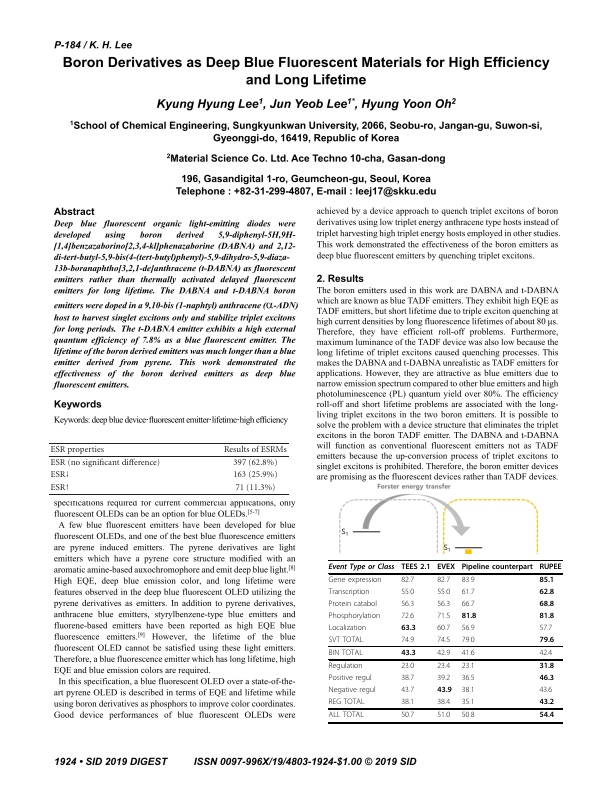borderless: (327, 559, 562, 722), (47, 441, 289, 494)
cell: (49, 458, 161, 468), (461, 563, 534, 572), (223, 445, 288, 455), (328, 563, 395, 572), (49, 445, 105, 455), (328, 576, 382, 586), (328, 612, 381, 622), (328, 600, 378, 610), (328, 686, 377, 696), (234, 482, 276, 493), (232, 458, 278, 468), (232, 470, 278, 480), (328, 674, 373, 684), (328, 588, 370, 598), (328, 624, 367, 634), (328, 698, 365, 708), (328, 649, 364, 659), (328, 662, 364, 672), (328, 712, 365, 721), (328, 636, 364, 645), (400, 563, 431, 572), (49, 482, 71, 493), (538, 563, 563, 572), (49, 470, 71, 480), (436, 563, 456, 572), (538, 662, 555, 672), (538, 674, 555, 684), (436, 686, 453, 696), (538, 698, 555, 708), (538, 576, 555, 585), (538, 588, 555, 597), (538, 600, 555, 609), (538, 612, 555, 621), (400, 624, 417, 633), (538, 636, 555, 645), (400, 649, 417, 658), (538, 712, 555, 721), (400, 576, 415, 586), (436, 576, 451, 586), (400, 588, 415, 598), (436, 588, 451, 598), (400, 600, 415, 610), (436, 600, 451, 610), (400, 612, 415, 622), (436, 612, 451, 622), (436, 624, 451, 634), (538, 624, 553, 634), (436, 649, 451, 659), (538, 649, 553, 659), (400, 662, 415, 672), (436, 662, 451, 672), (400, 674, 415, 684), (436, 674, 451, 684), (400, 686, 415, 696), (538, 686, 553, 696), (400, 698, 415, 708), (436, 698, 451, 708), (461, 612, 477, 621), (461, 576, 475, 586), (461, 588, 475, 598), (461, 600, 475, 610), (461, 624, 475, 634), (461, 649, 475, 659), (461, 662, 475, 672), (461, 674, 475, 684), (461, 686, 475, 696), (461, 698, 475, 708), (400, 636, 415, 645), (436, 636, 451, 645), (400, 712, 415, 721), (436, 712, 451, 721), (461, 636, 475, 645), (461, 712, 475, 721)
